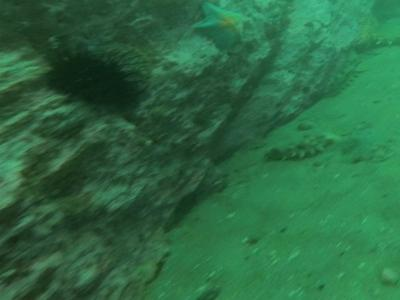holothurian: (266, 142, 332, 162), (322, 57, 354, 95), (350, 32, 397, 51)
urchin: (43, 49, 139, 109)
